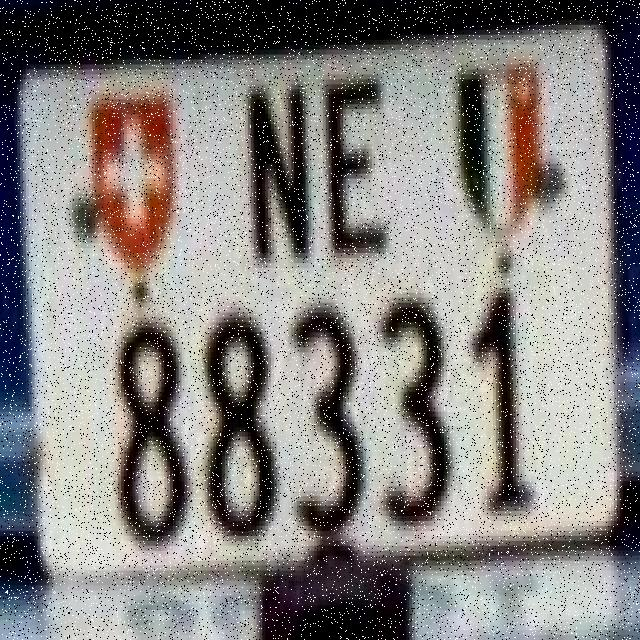licenseplate: (15, 59, 582, 536)
